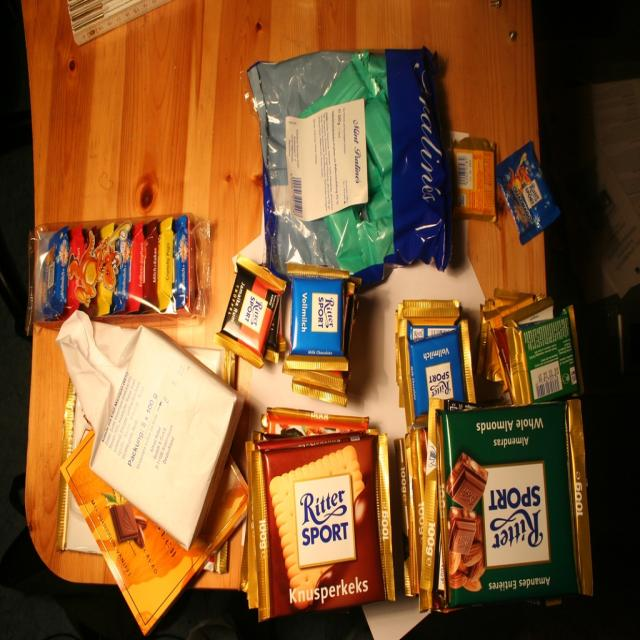rittersport: (479, 461, 553, 575), (294, 475, 356, 573), (239, 288, 269, 336), (425, 360, 458, 403), (310, 293, 341, 336), (522, 180, 545, 212)
